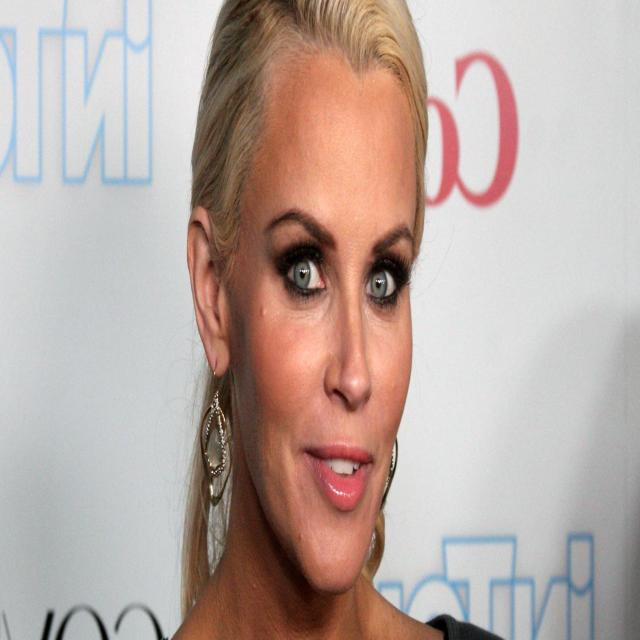no-earmuff: (186, 204, 230, 376)
